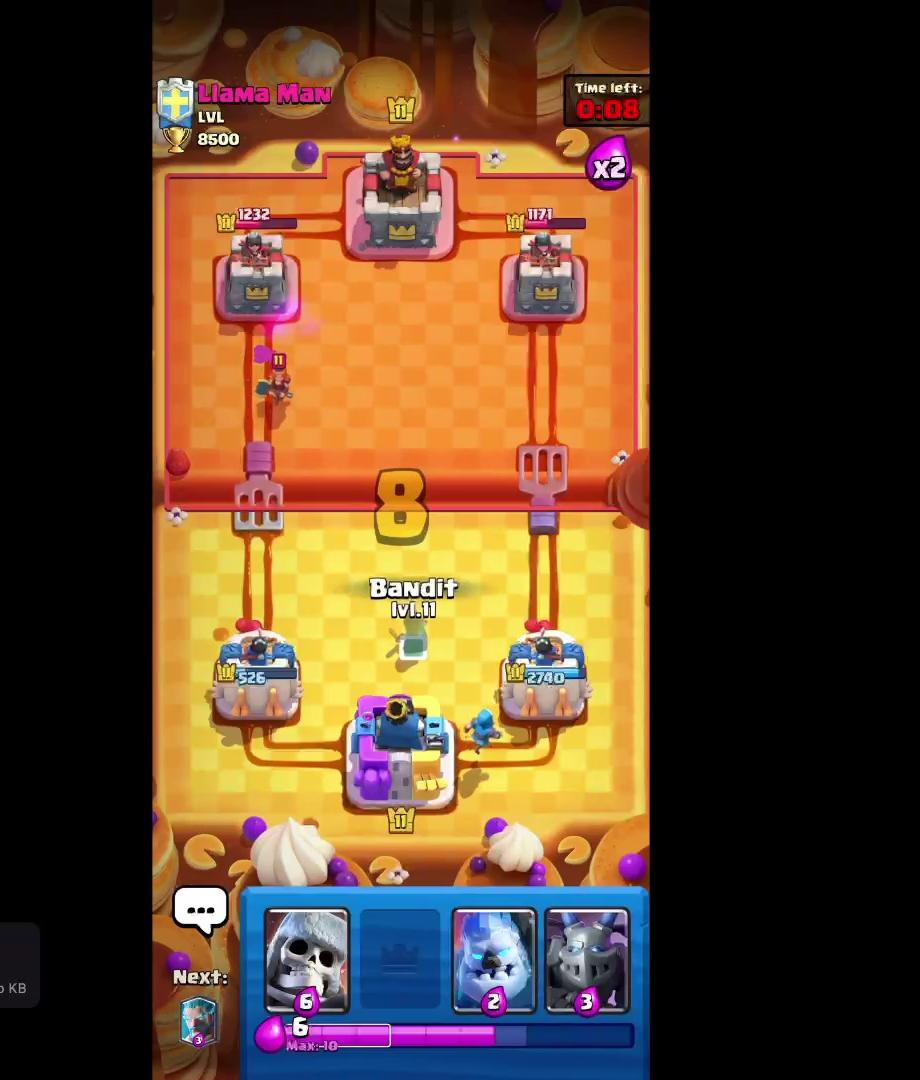Valkyrie: (253, 350, 299, 408)
